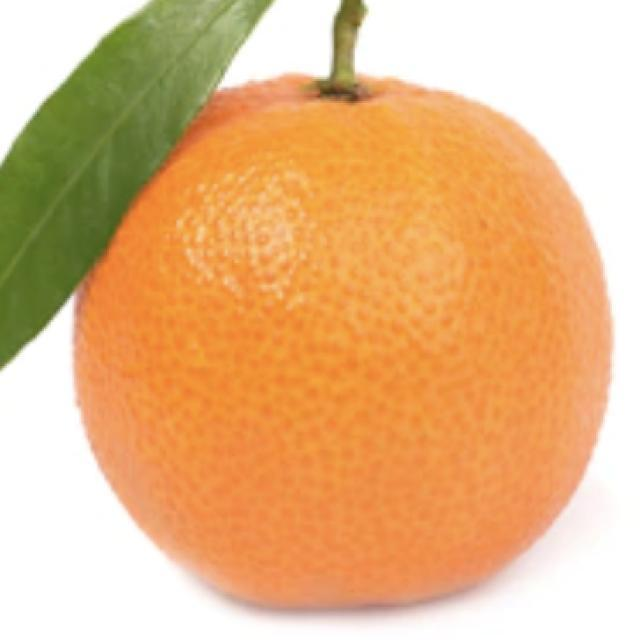Orange: (38, 67, 620, 611)
